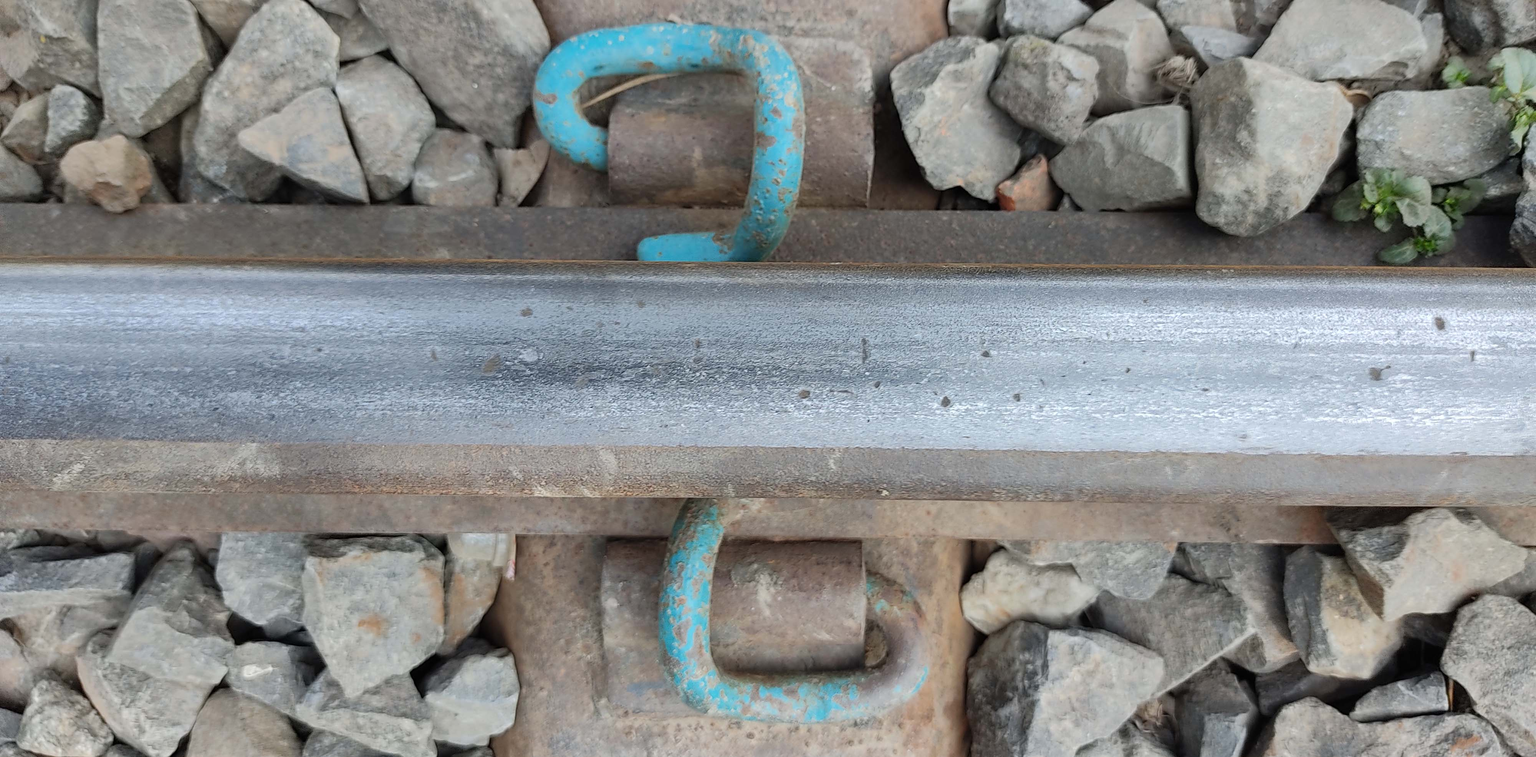Poor contact: (535, 11, 841, 281), (625, 492, 935, 757)
